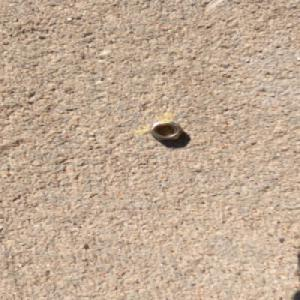Nut: (147, 120, 184, 142)
